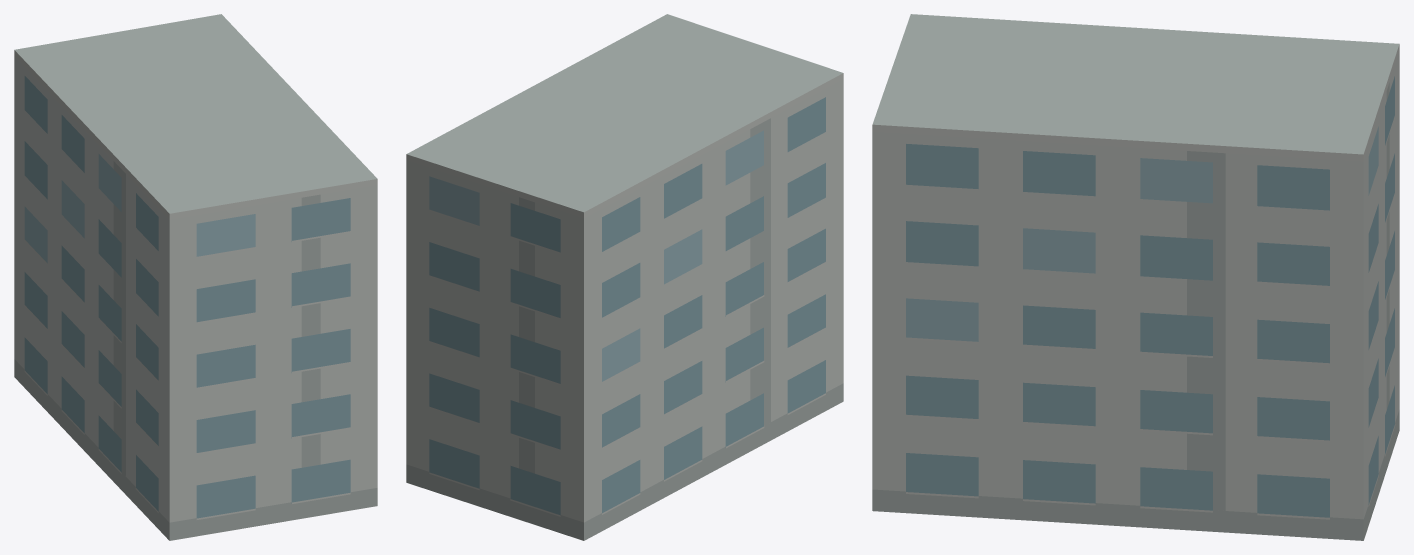
The model's file is survey-upis-32537981.glb.
The picture shows the model from 3 angles, left to right: view 1: azimuth 30°, elevation 25°; view 2: azimuth 150°, elevation 25°; view 3: azimuth 270°, elevation 25°; orthographic projection. The views are drawn at different scales.
Visible parts, largest first — view 1: survey-upis-32537981.tmp; view 2: survey-upis-32537981.tmp; view 3: survey-upis-32537981.tmp.
Boxes of the visible parts, x1=… form: survey-upis-32537981.tmp: x1=14, y1=14, x2=377, y2=540; survey-upis-32537981.tmp: x1=406, y1=14, x2=843, y2=540; survey-upis-32537981.tmp: x1=872, y1=14, x2=1399, y2=540.
Size of the model in its own units: 10.22 by 13.1 by 16.21.
